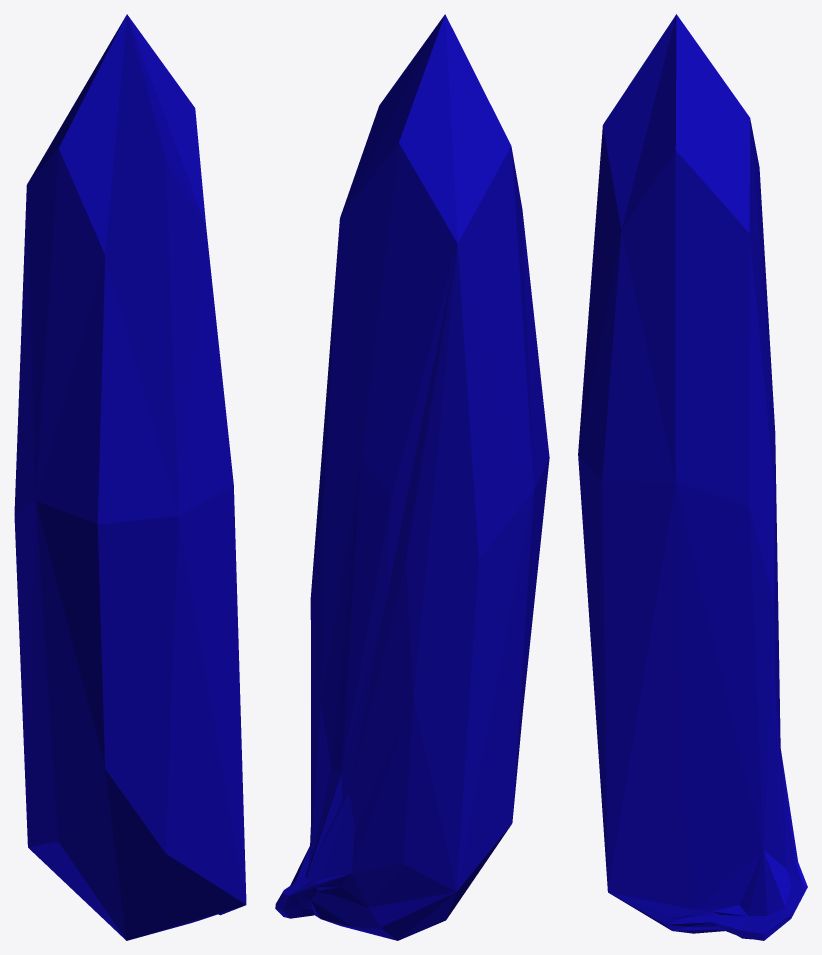
3 renders of one model, left to right at view 1: azimuth 30°, elevation 25°; view 2: azimuth 150°, elevation 25°; view 3: azimuth 270°, elevation 25°, orthographic. The views are drawn at different scales.
Visible parts, largest first — view 1: 608_Cube.2446; view 2: 608_Cube.2446; view 3: 608_Cube.2446.
Part boxes in pixels (x1,y1,x2,y2): 608_Cube.2446: [14, 14, 246, 940]; 608_Cube.2446: [275, 14, 549, 940]; 608_Cube.2446: [578, 14, 807, 940].
Bounding box in the file's own units: 2.86 × 12.02 × 2.85.
